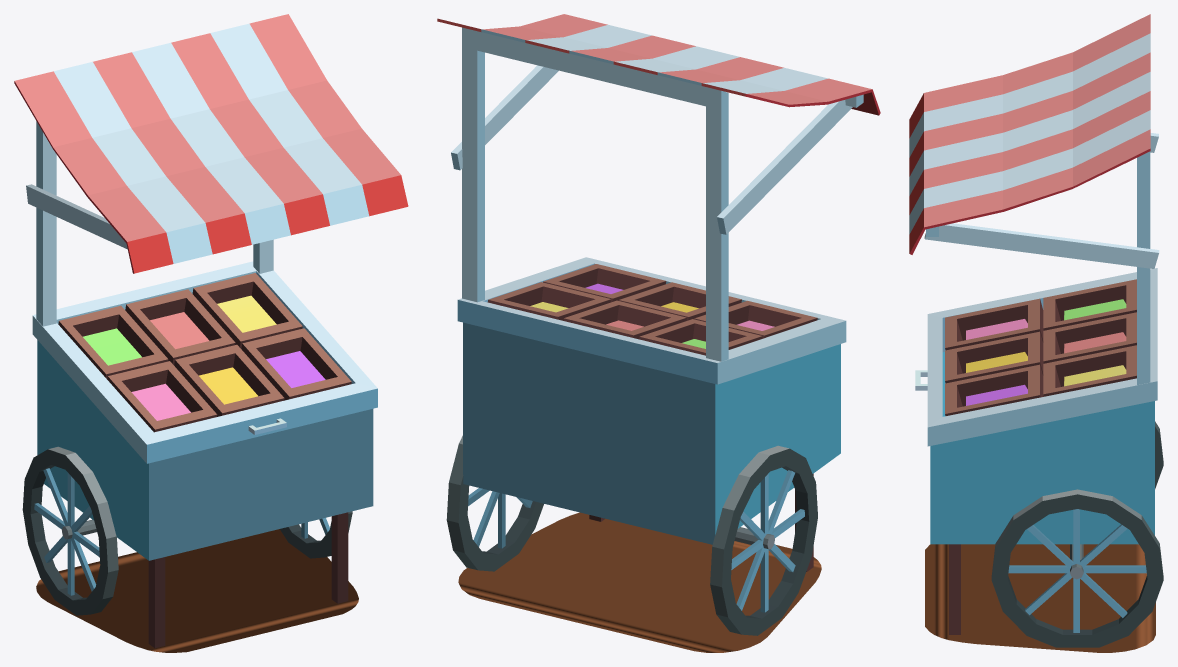
Rendered from barrier_005.fbx.
3 views of the same model, side by side, from view 1: azimuth 30°, elevation 25°; view 2: azimuth 150°, elevation 25°; view 3: azimuth 270°, elevation 25° (orthographic). The views are drawn at different scales.
Parts seen in each view (by area): view 1: Fruit_Cart_Shop1; view 2: Fruit_Cart_Shop1; view 3: Fruit_Cart_Shop1.
Boxes of the visible parts, x1=… form: Fruit_Cart_Shop1: x1=14, y1=14, x2=408, y2=652; Fruit_Cart_Shop1: x1=437, y1=14, x2=880, y2=652; Fruit_Cart_Shop1: x1=909, y1=14, x2=1163, y2=652.
Size of the model in its own units: 170 by 300 by 136.
